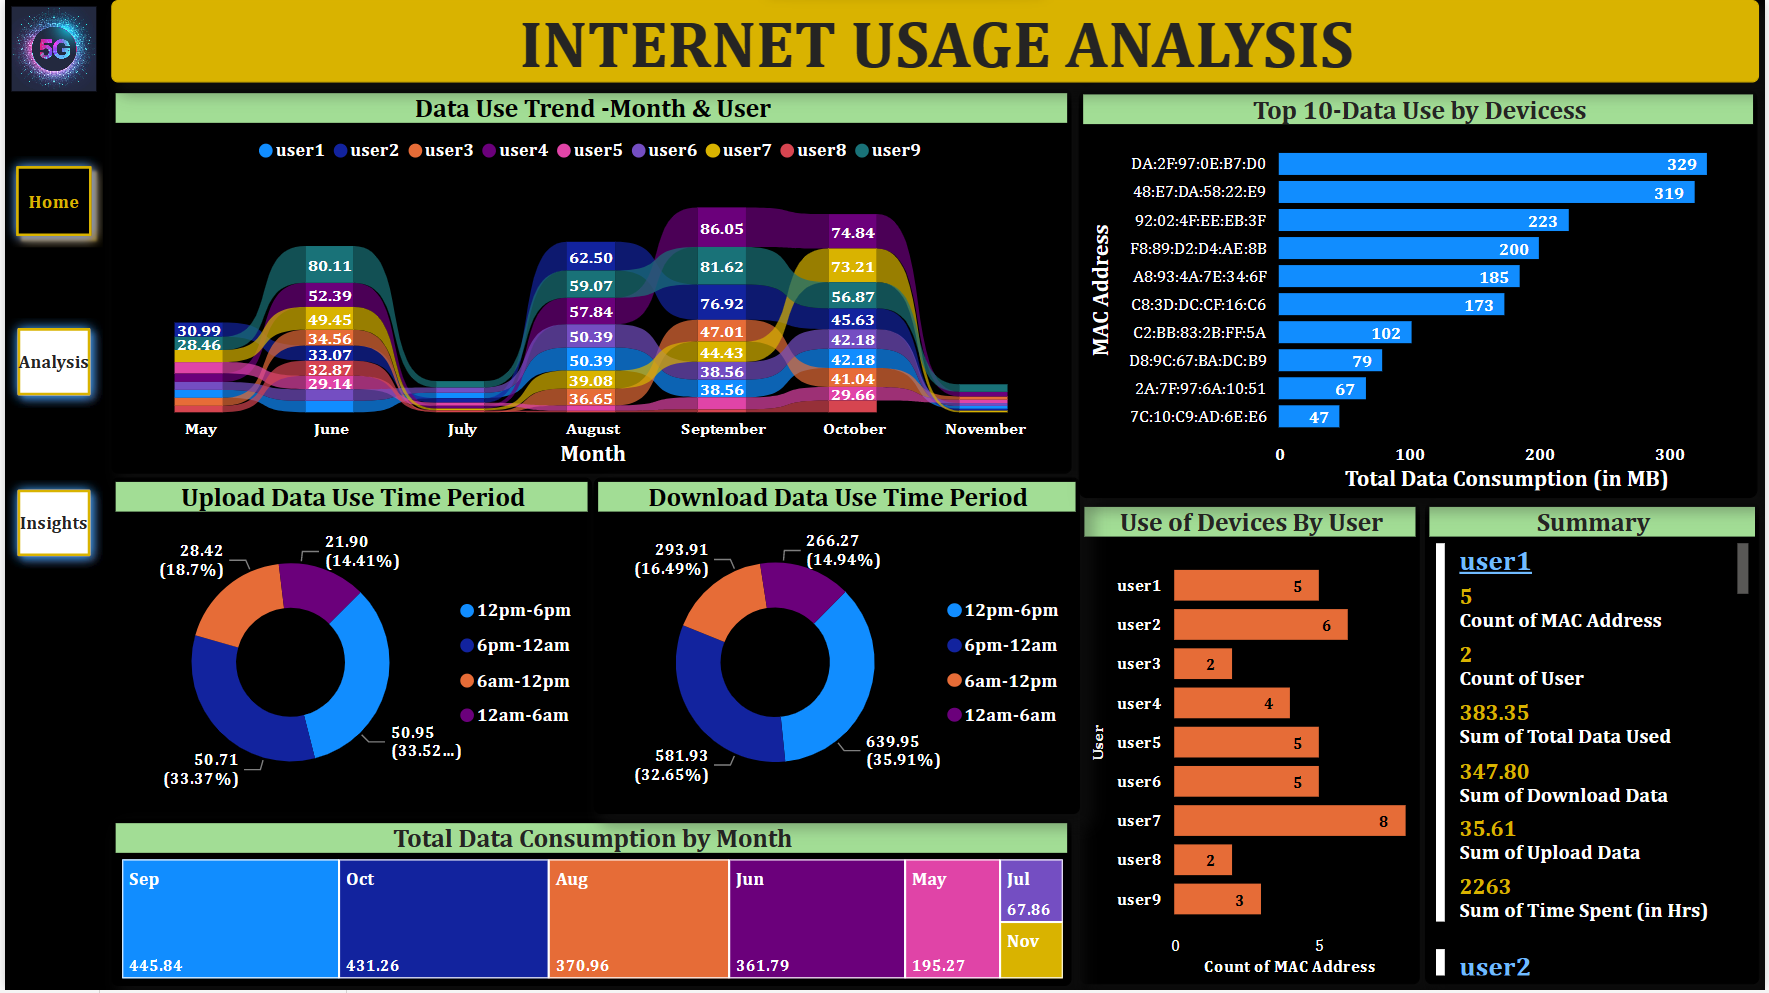

Layout of this report page (visuals, bound fields, positions):
{"tool":"powerbi","page":{"name":"Home","canvas":[1280,720],"ordinal":0},"visuals":[{"type":"ribbonChart","title":"Data Use Trend -Month & User","fields":{"Category":["internet_session.start_time.Variation.Date Hierarchy.Month"],"Series":["internet_session.name"],"Y":["Sum(internet_session.Data_Total)"]},"box":[77.1,64.3,698.6,280],"z":0},{"type":"donutChart","title":"Upload Data Use Time Period","fields":{"Category":["internet_session.Period of Use"],"Y":["Sum(internet_session.Data Use for Upload)"]},"box":[77.2,347.3,349.7,245],"z":1000},{"type":"barChart","title":"Use of Devices By User","fields":{"Category":["Devices.name"],"Y":["Count(Devices.MAC)"]},"box":[781.4,365.7,247.1,350],"z":2000},{"type":"treemap","title":"Total Data Consumption by Month","fields":{"Values":["Sum(internet_session.Data_Total)"],"Group":["internet_session.M_Name"]},"box":[77.2,595.8,698.3,121.8],"z":3000},{"type":"pieChart","title":"Download Data Use Time Period","fields":{"Category":["internet_session.Period of Use"],"Y":["Sum(internet_session.Data Use for Download)"]},"box":[428.1,347.3,353.4,244.8],"z":4000},{"type":"multiRowCard","title":"Summary","fields":{"Values":["internet_session.MAC","internet_session.name","Sum(internet_session.Total Data Consumption)","Sum(internet_session.Data Use for Download)","Sum(internet_session.Data Use for Upload)","Devices.name","Sum(internet_session.Data Used in Hrs)"]},"box":[1032.8,365.7,242.8,350],"z":5000},{"type":"barChart","title":"Top 10-Data Use by Devicess","fields":{"Category":["internet_session.MAC Address"],"Y":["Sum(internet_session.Total Data Consumption)"]},"box":[781.2,65,493.8,297],"z":6000},{"type":"shape","title":"INTERNET USAGE ANALYSIS","box":[77.1,0,1198.6,60],"z":7000},{"type":"image","box":[0,0,71.4,71.4],"z":8000},{"type":"pageNavigator","box":[0,112.5,71.2,302.5],"z":9000}]}

Visuals, with their boxes in screenshot pixels (x1, y1, x2, y2), scaled from the page's 1280x720 canvas onto the 1769x993 screenshot:
"Data Use Trend -Month & User" ribbonChart: bbox(107, 89, 1072, 475)
"Upload Data Use Time Period" donutChart: bbox(107, 479, 590, 817)
"Use of Devices By User" barChart: bbox(1080, 504, 1421, 987)
"Total Data Consumption by Month" treemap: bbox(107, 822, 1072, 990)
"Download Data Use Time Period" pieChart: bbox(592, 479, 1080, 817)
"Summary" multiRowCard: bbox(1427, 504, 1763, 987)
"Top 10-Data Use by Devicess" barChart: bbox(1080, 90, 1762, 499)
"INTERNET USAGE ANALYSIS" shape: bbox(107, 0, 1763, 83)
image: bbox(0, 0, 99, 98)
pageNavigator: bbox(0, 155, 98, 572)
